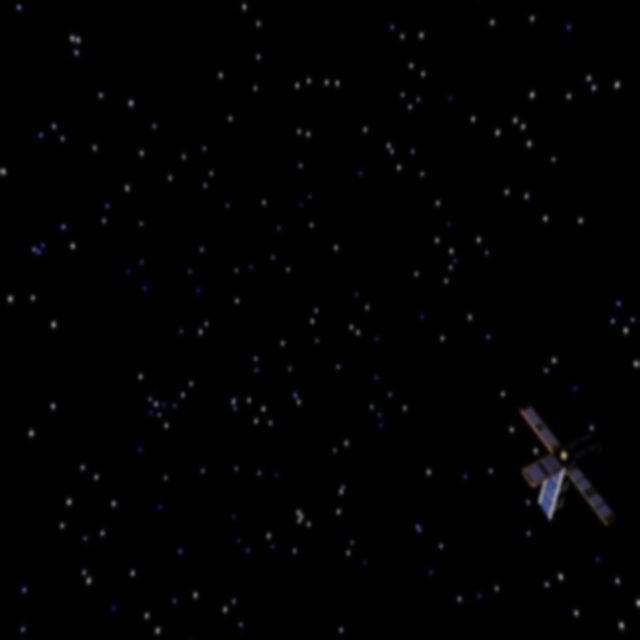satellite: (508, 403, 624, 527)
